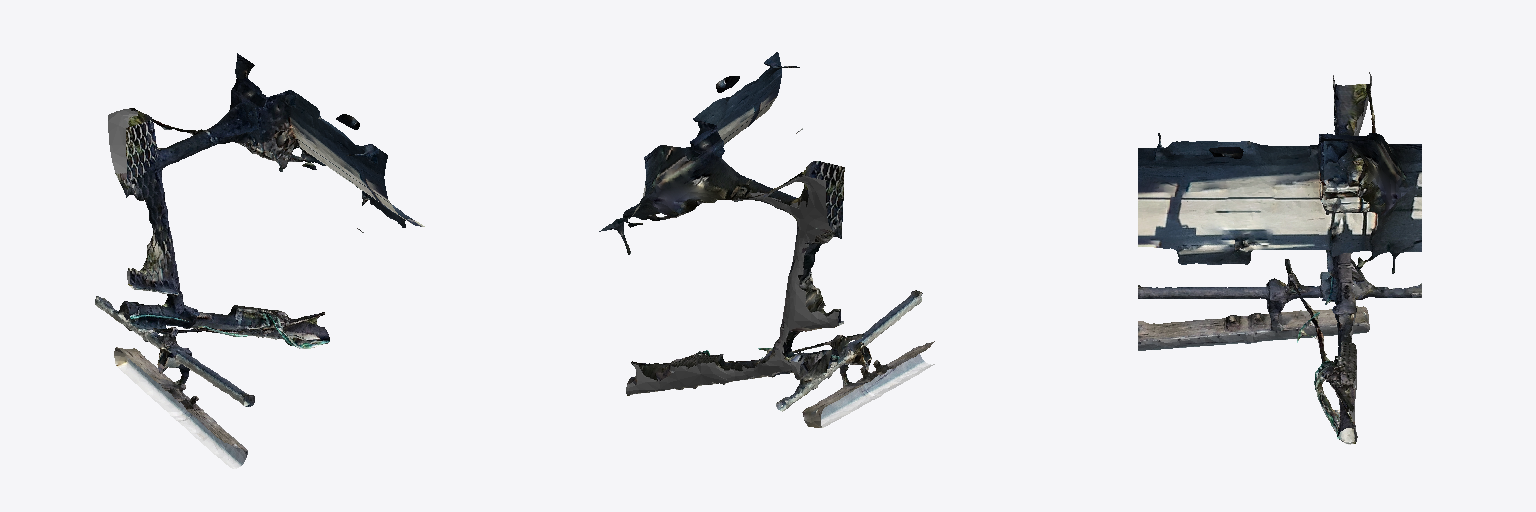
3 views of the same model, side by side, from view 1: azimuth 30°, elevation 25°; view 2: azimuth 150°, elevation 25°; view 3: azimuth 270°, elevation 25° (orthographic).
Size of the model in its own units: 1.19 by 1.52 by 1.42.
2 materials, 1 textured.